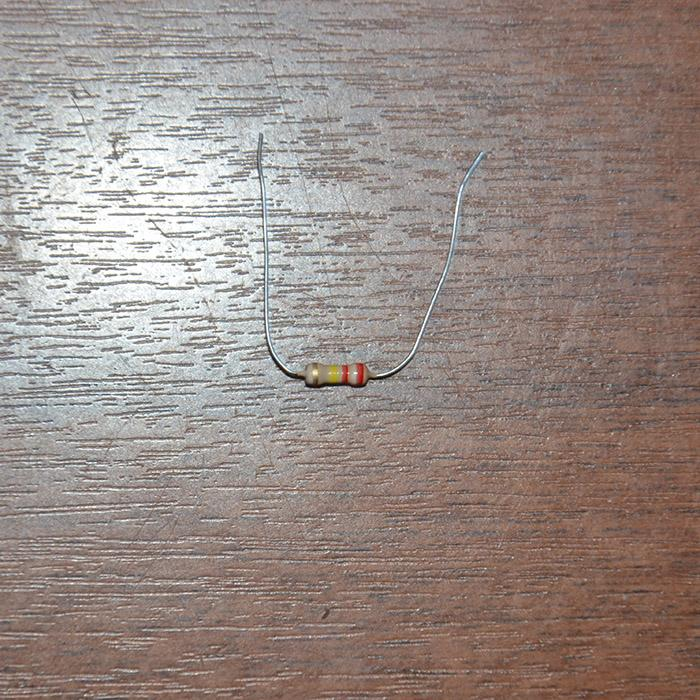resistor: (300, 359, 375, 388)
